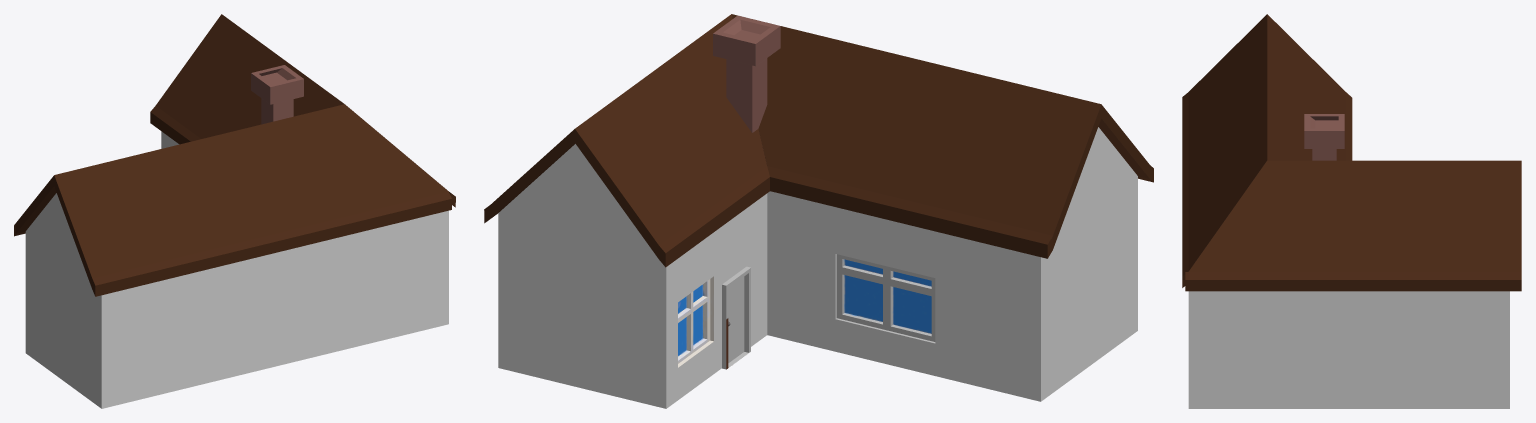
The model's file is houselong.dae.
The picture shows the model from 3 angles, left to right: view 1: azimuth 30°, elevation 25°; view 2: azimuth 150°, elevation 25°; view 3: azimuth 270°, elevation 25°; orthographic projection. The views are drawn at different scales.
Visible parts, largest first — view 1: dom; view 2: dom; view 3: dom.
Part boxes in pixels (x1,y1,x2,y2): dom: (14,14,455,408); dom: (484,14,1153,408); dom: (1182,14,1521,408).
Size of the model in its own units: 13.7 by 10.78 by 8.18.
